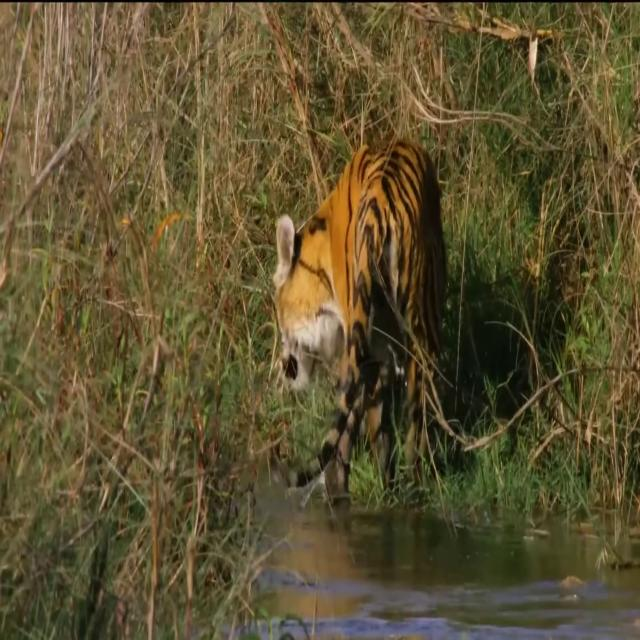tiger: (272, 142, 448, 505)
